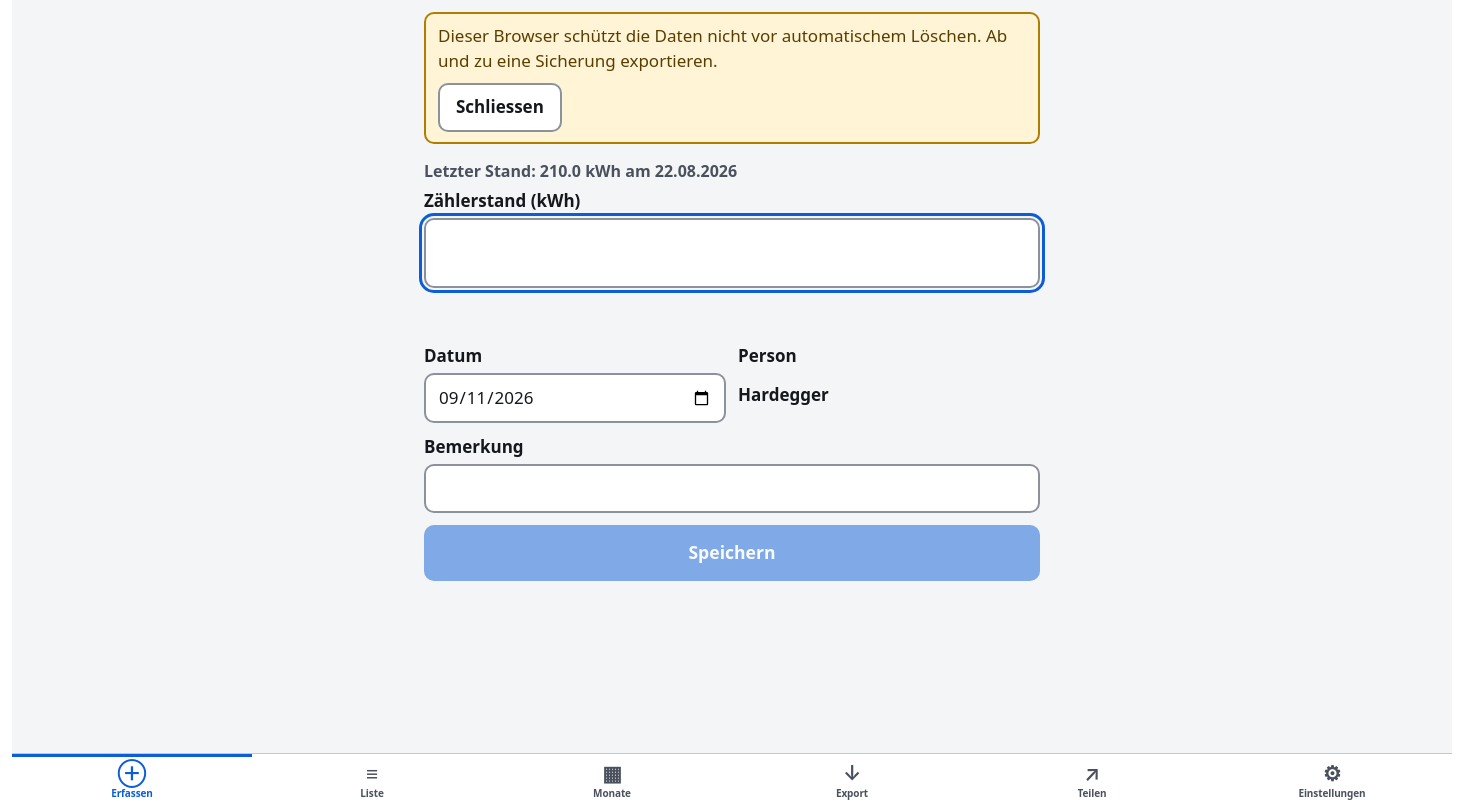
the monthly overview (FR-5) › shows one row per month with totals per person
The image size is (1464, 810).
Click the button "▦ Monate" at (612, 782), box [492,754,732,809]
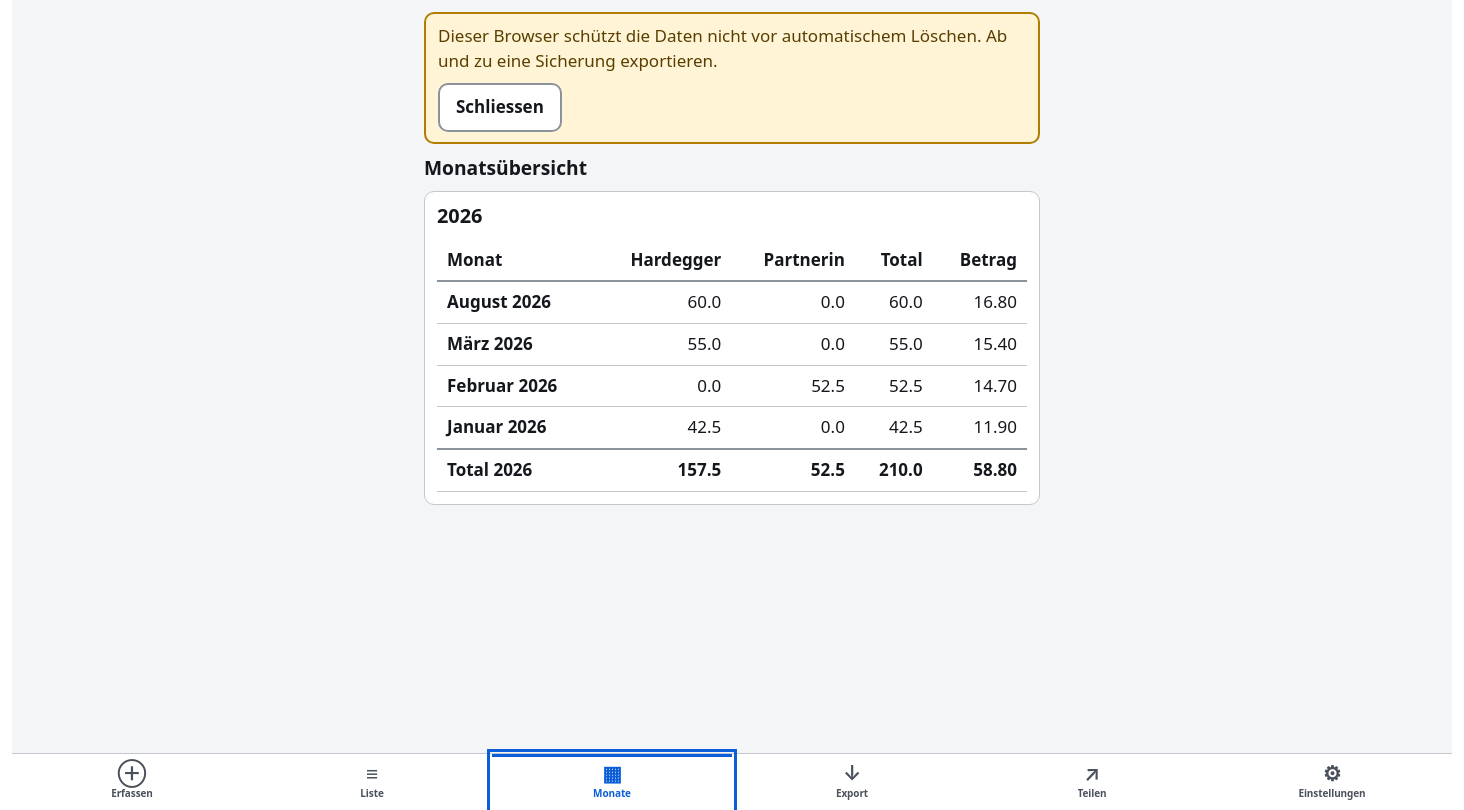
Result: the cells read "0.0", "52.5", "52.5", "14.70", in this order at [596,365,731,407]; [731,365,855,407]; [855,365,933,407]; [933,365,1027,407]
